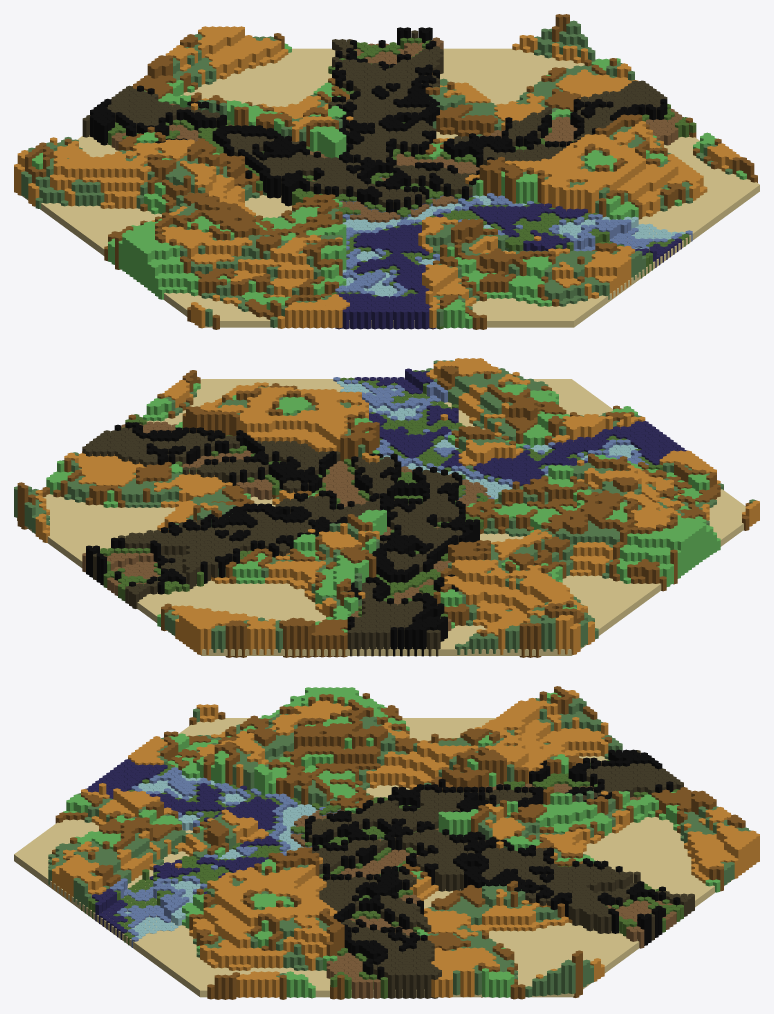
The model's file is 0039_tile_1021110.fbx.
3 views of the same model, one above another, from view 1: azimuth 30°, elevation 25°; view 2: azimuth 150°, elevation 25°; view 3: azimuth 270°, elevation 25° (orthographic).
Parts seen in each view (by area): view 1: Plane; view 2: Plane; view 3: Plane.
Boxes of the visible parts, x1,y1,x2,y2 form: Plane: (14,14,759,329); Plane: (14,358,759,657); Plane: (14,686,759,999).
Bounding box in the file's own units: 1008 × 70.81 × 1152.
